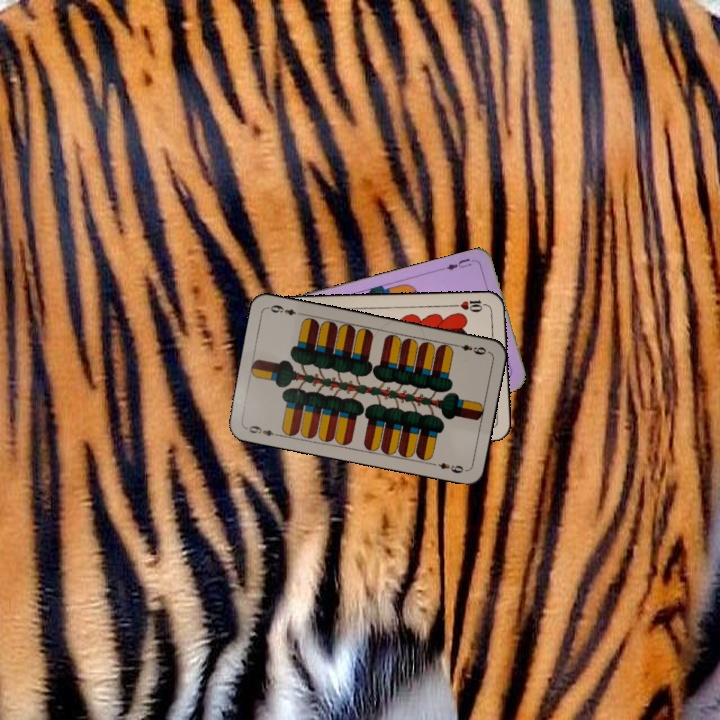E9: (242, 421, 282, 439), (450, 340, 489, 357)
EU: (442, 254, 480, 273)
H10: (450, 296, 491, 315)
